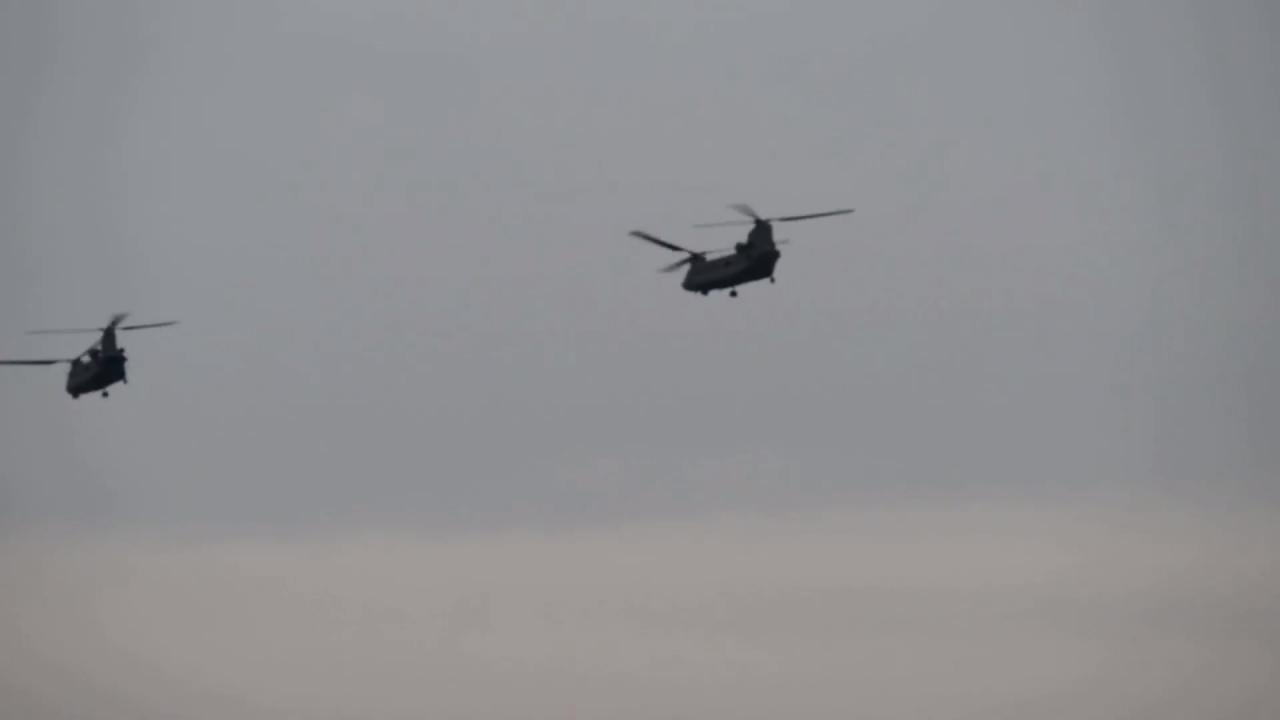Helicopter: (618, 189, 868, 312), (0, 298, 181, 407)
